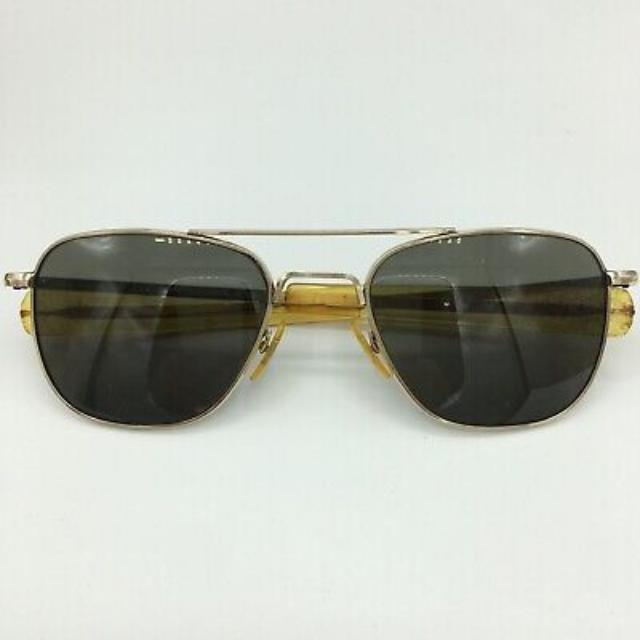sunglasses: (2, 218, 640, 434)
